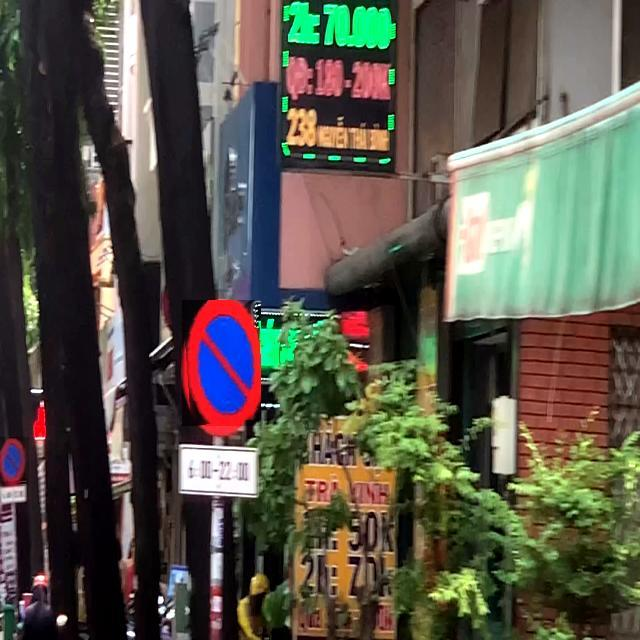P-131a: (182, 300, 261, 426), (0, 438, 29, 486)
